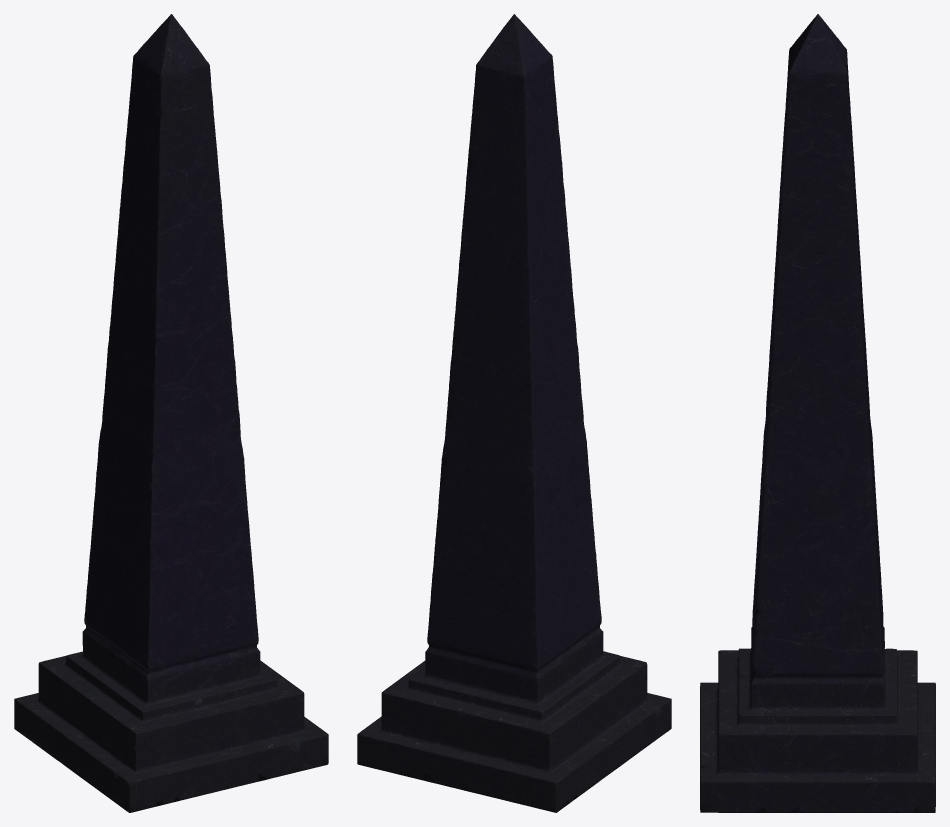
Rendered from Meshy_AI_Voidspire_Nexus_1006022317_texture.glb.
The picture shows the model from 3 angles, left to right: view 1: azimuth 30°, elevation 25°; view 2: azimuth 150°, elevation 25°; view 3: azimuth 270°, elevation 25°; orthographic projection. The views are drawn at different scales.
Bounding box in the file's own units: 0.5416 × 1.9 × 0.5417.
1 material, 1 textured.
